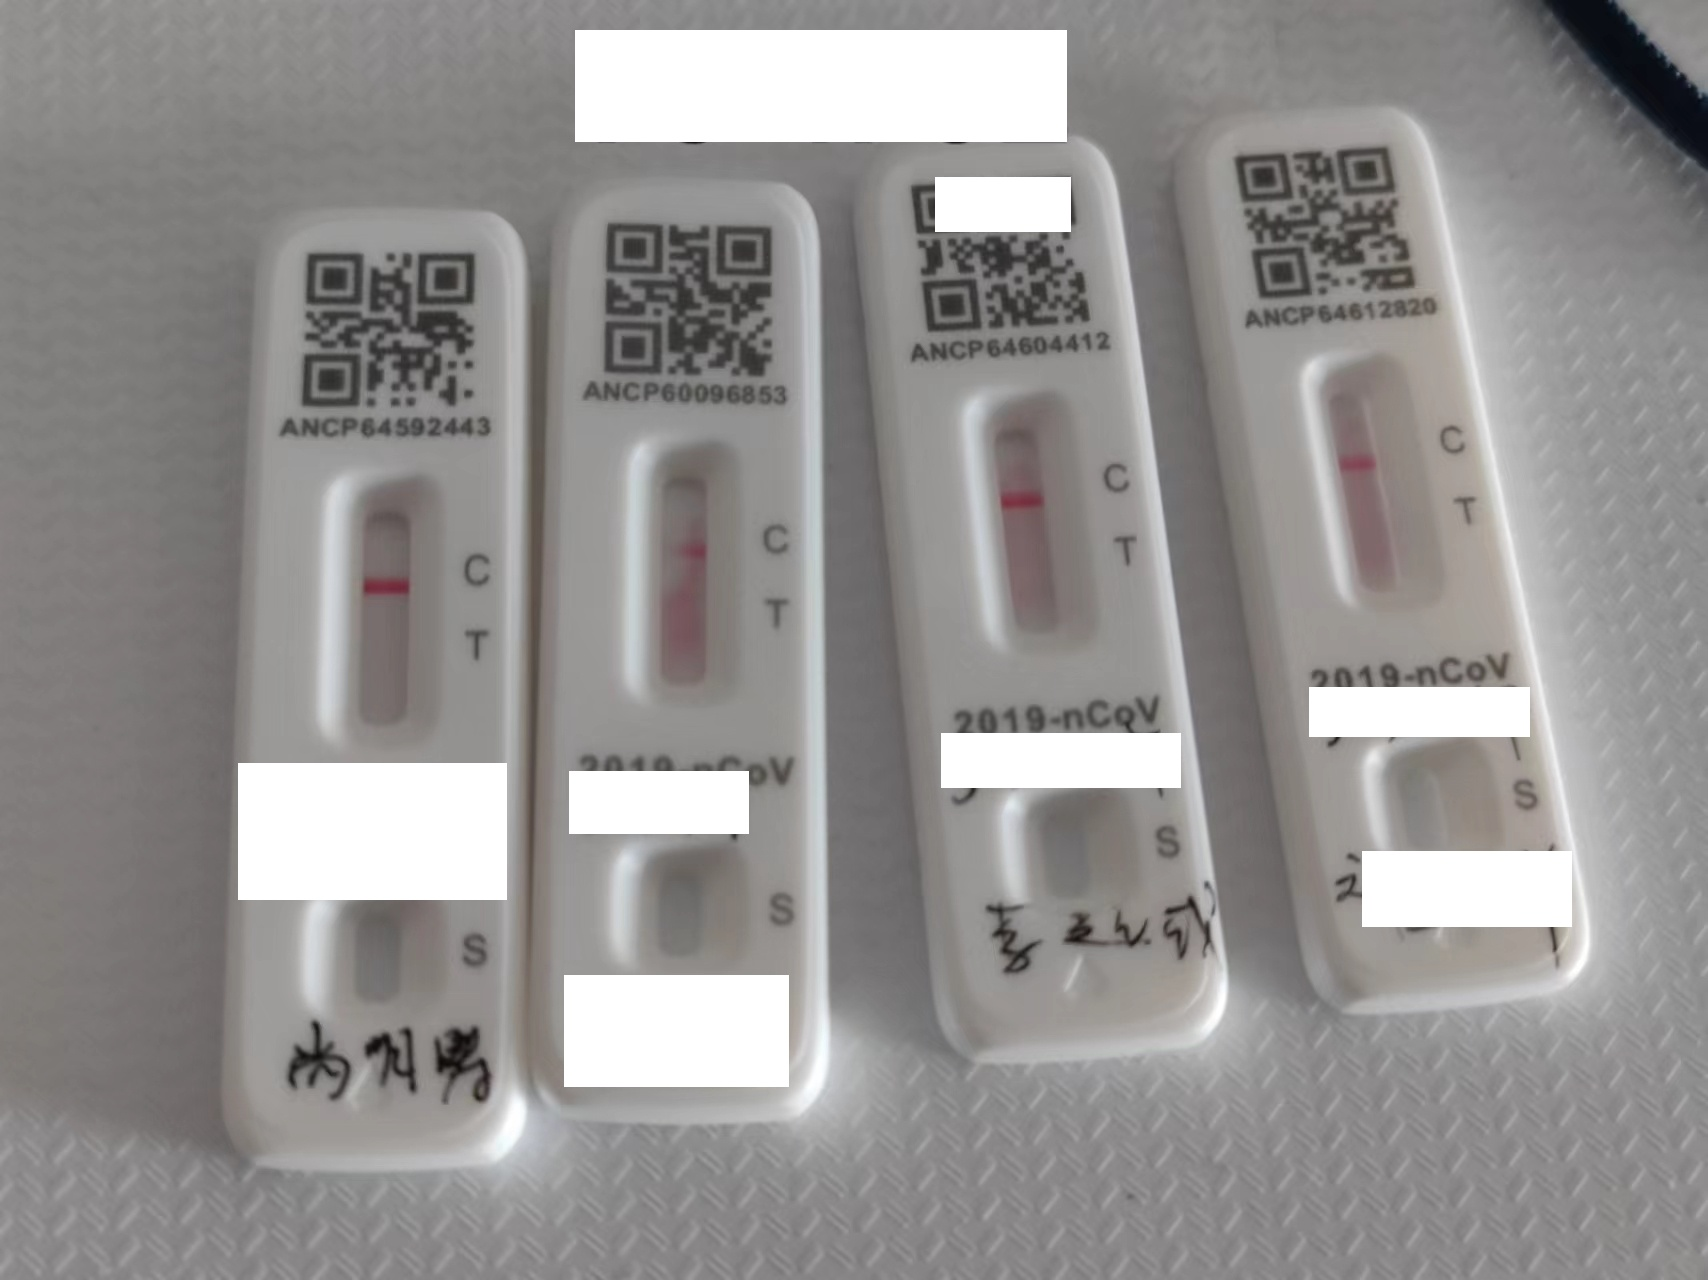negative: (1302, 358, 1439, 617), (967, 382, 1093, 653), (328, 477, 442, 741), (631, 440, 741, 709)
